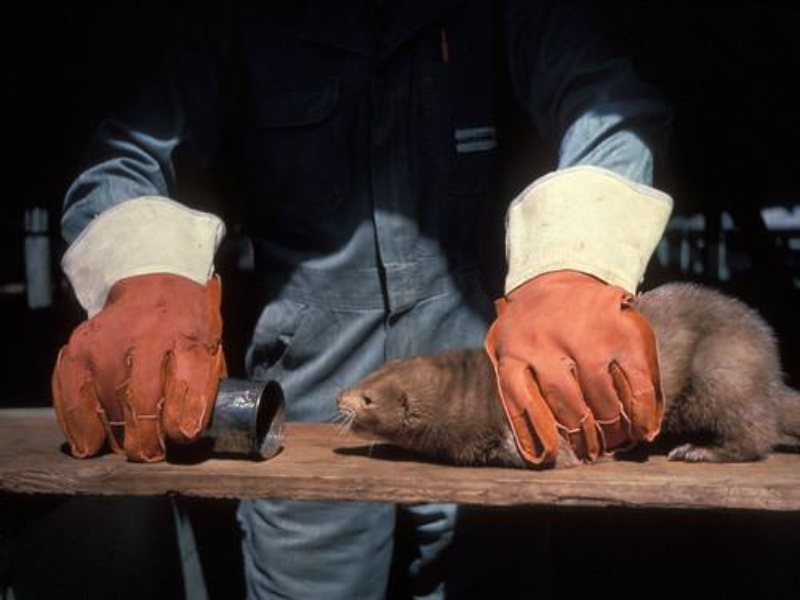minkish: (334, 280, 799, 473)
